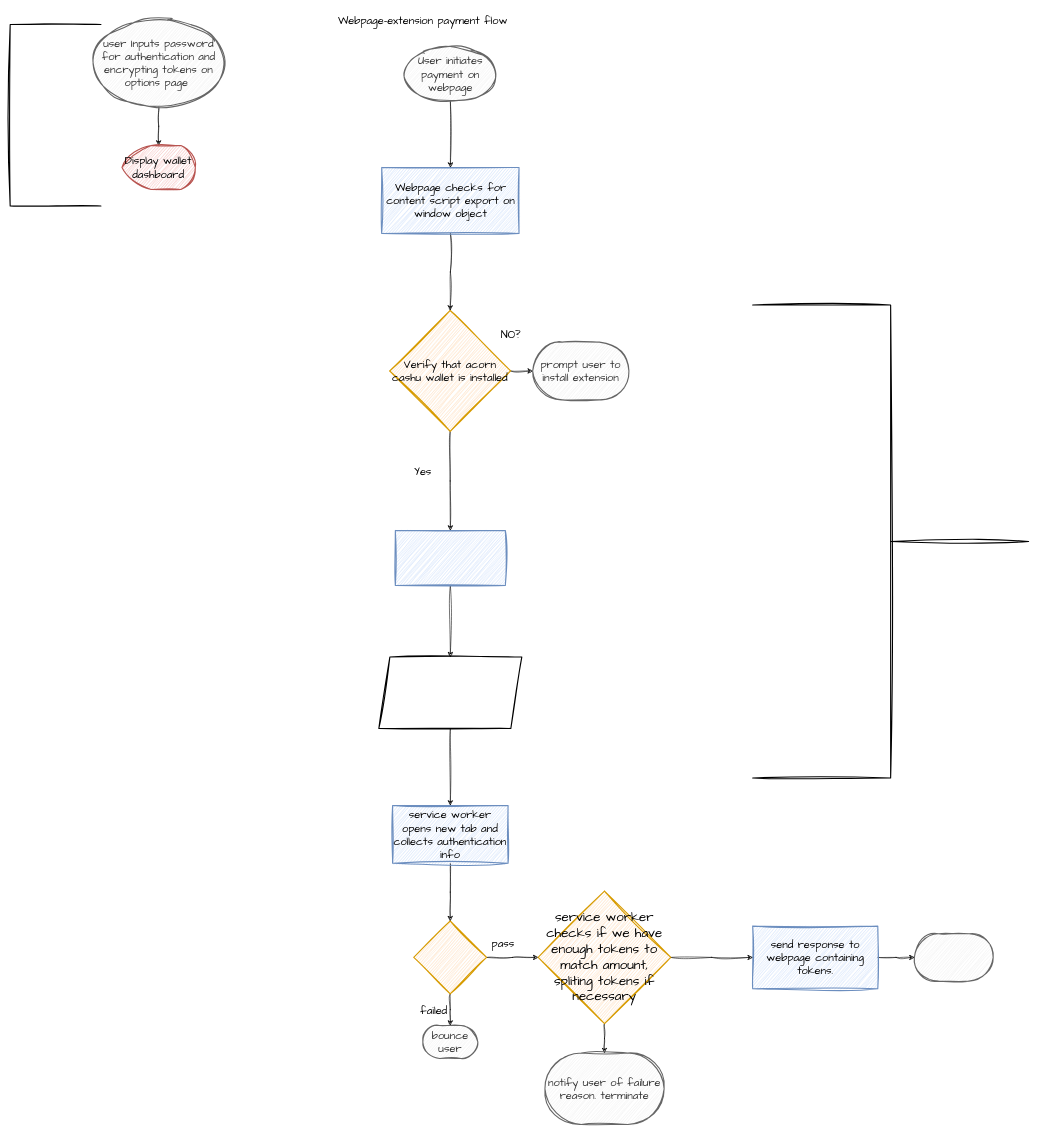
Image size: 1038x1134. Some labels were removed from this diagram. Here are the shapes that lost their labels. From the top down, the box of each, then its label:
(9, 24, 101, 206): Post-Install
(395, 530, 506, 586): Send message using content script export to extension service worker
(752, 304, 1029, 778): Payment flow
(378, 656, 522, 729): type invoice = { amount: number description: string hostname: string }
(413, 920, 487, 994): authenticate
(914, 933, 993, 981): notify user of success
